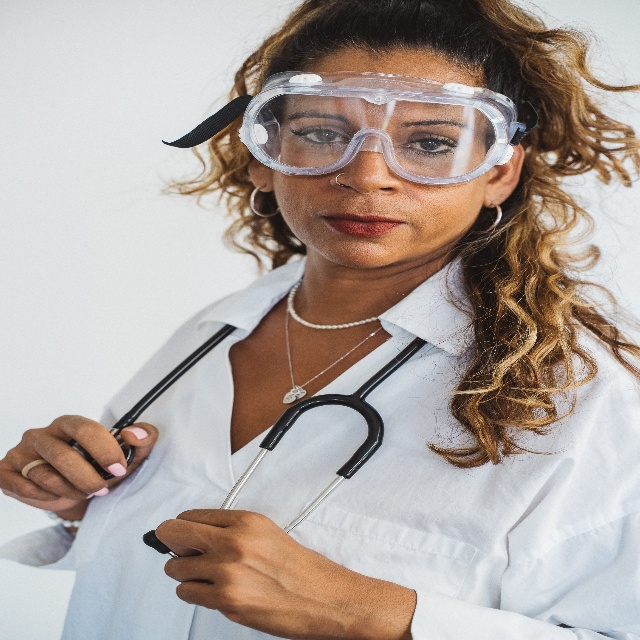Gafas: (241, 69, 503, 188)
Sin_guantes: (154, 500, 350, 640), (0, 408, 159, 527)
